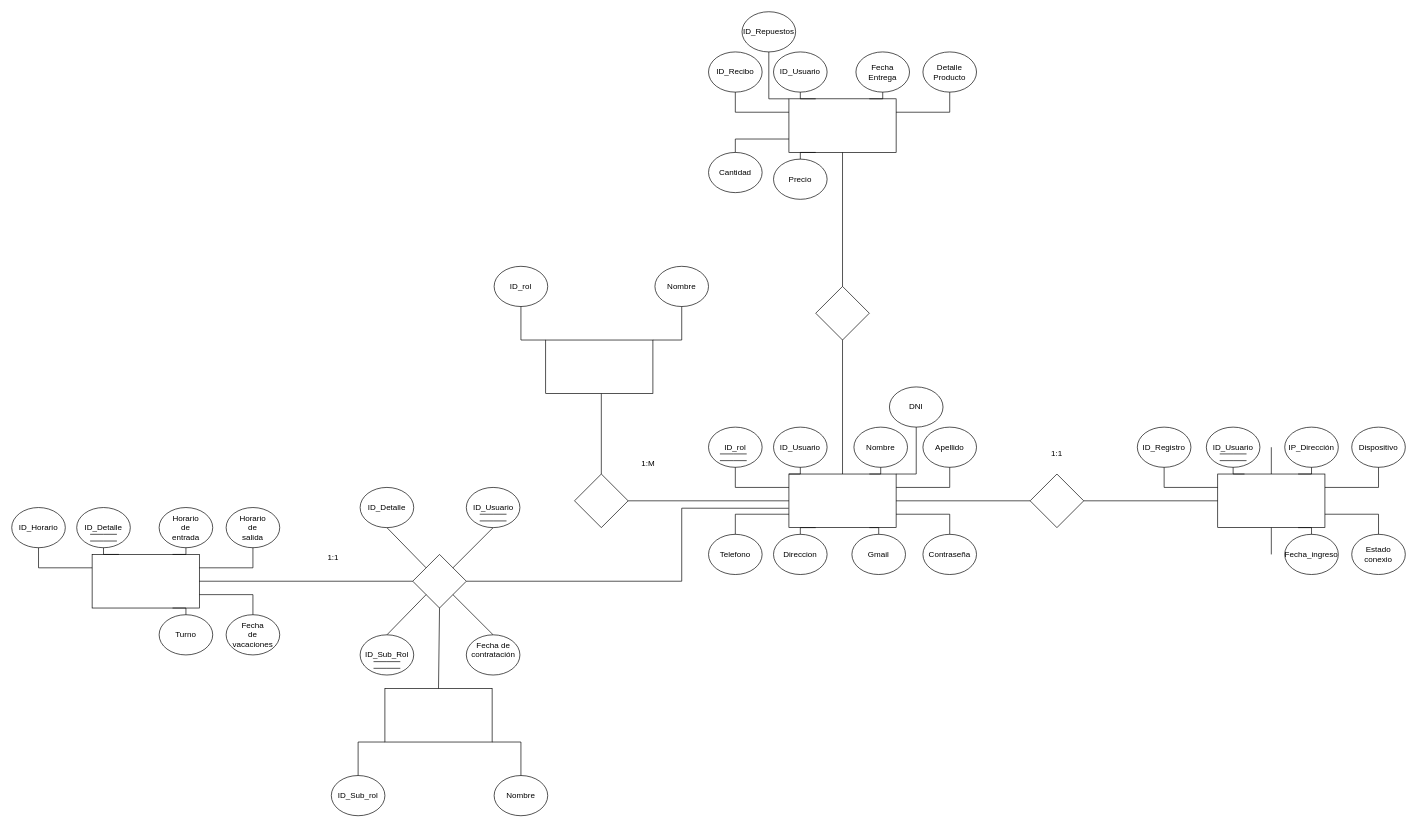
This 1417x827 diagram has some shape labels left out. Here are the shapes that lost their labels. From the top down, the centre of each, then its label:
the point at 842,125: Recibo
the point at 599,366: Rol
the point at 842,500: Usuario
the point at 1271,500: Registro
the point at 145,581: Horario
the point at 439,581: Detalle Empleado
the point at 438,715: Sub_Rol
